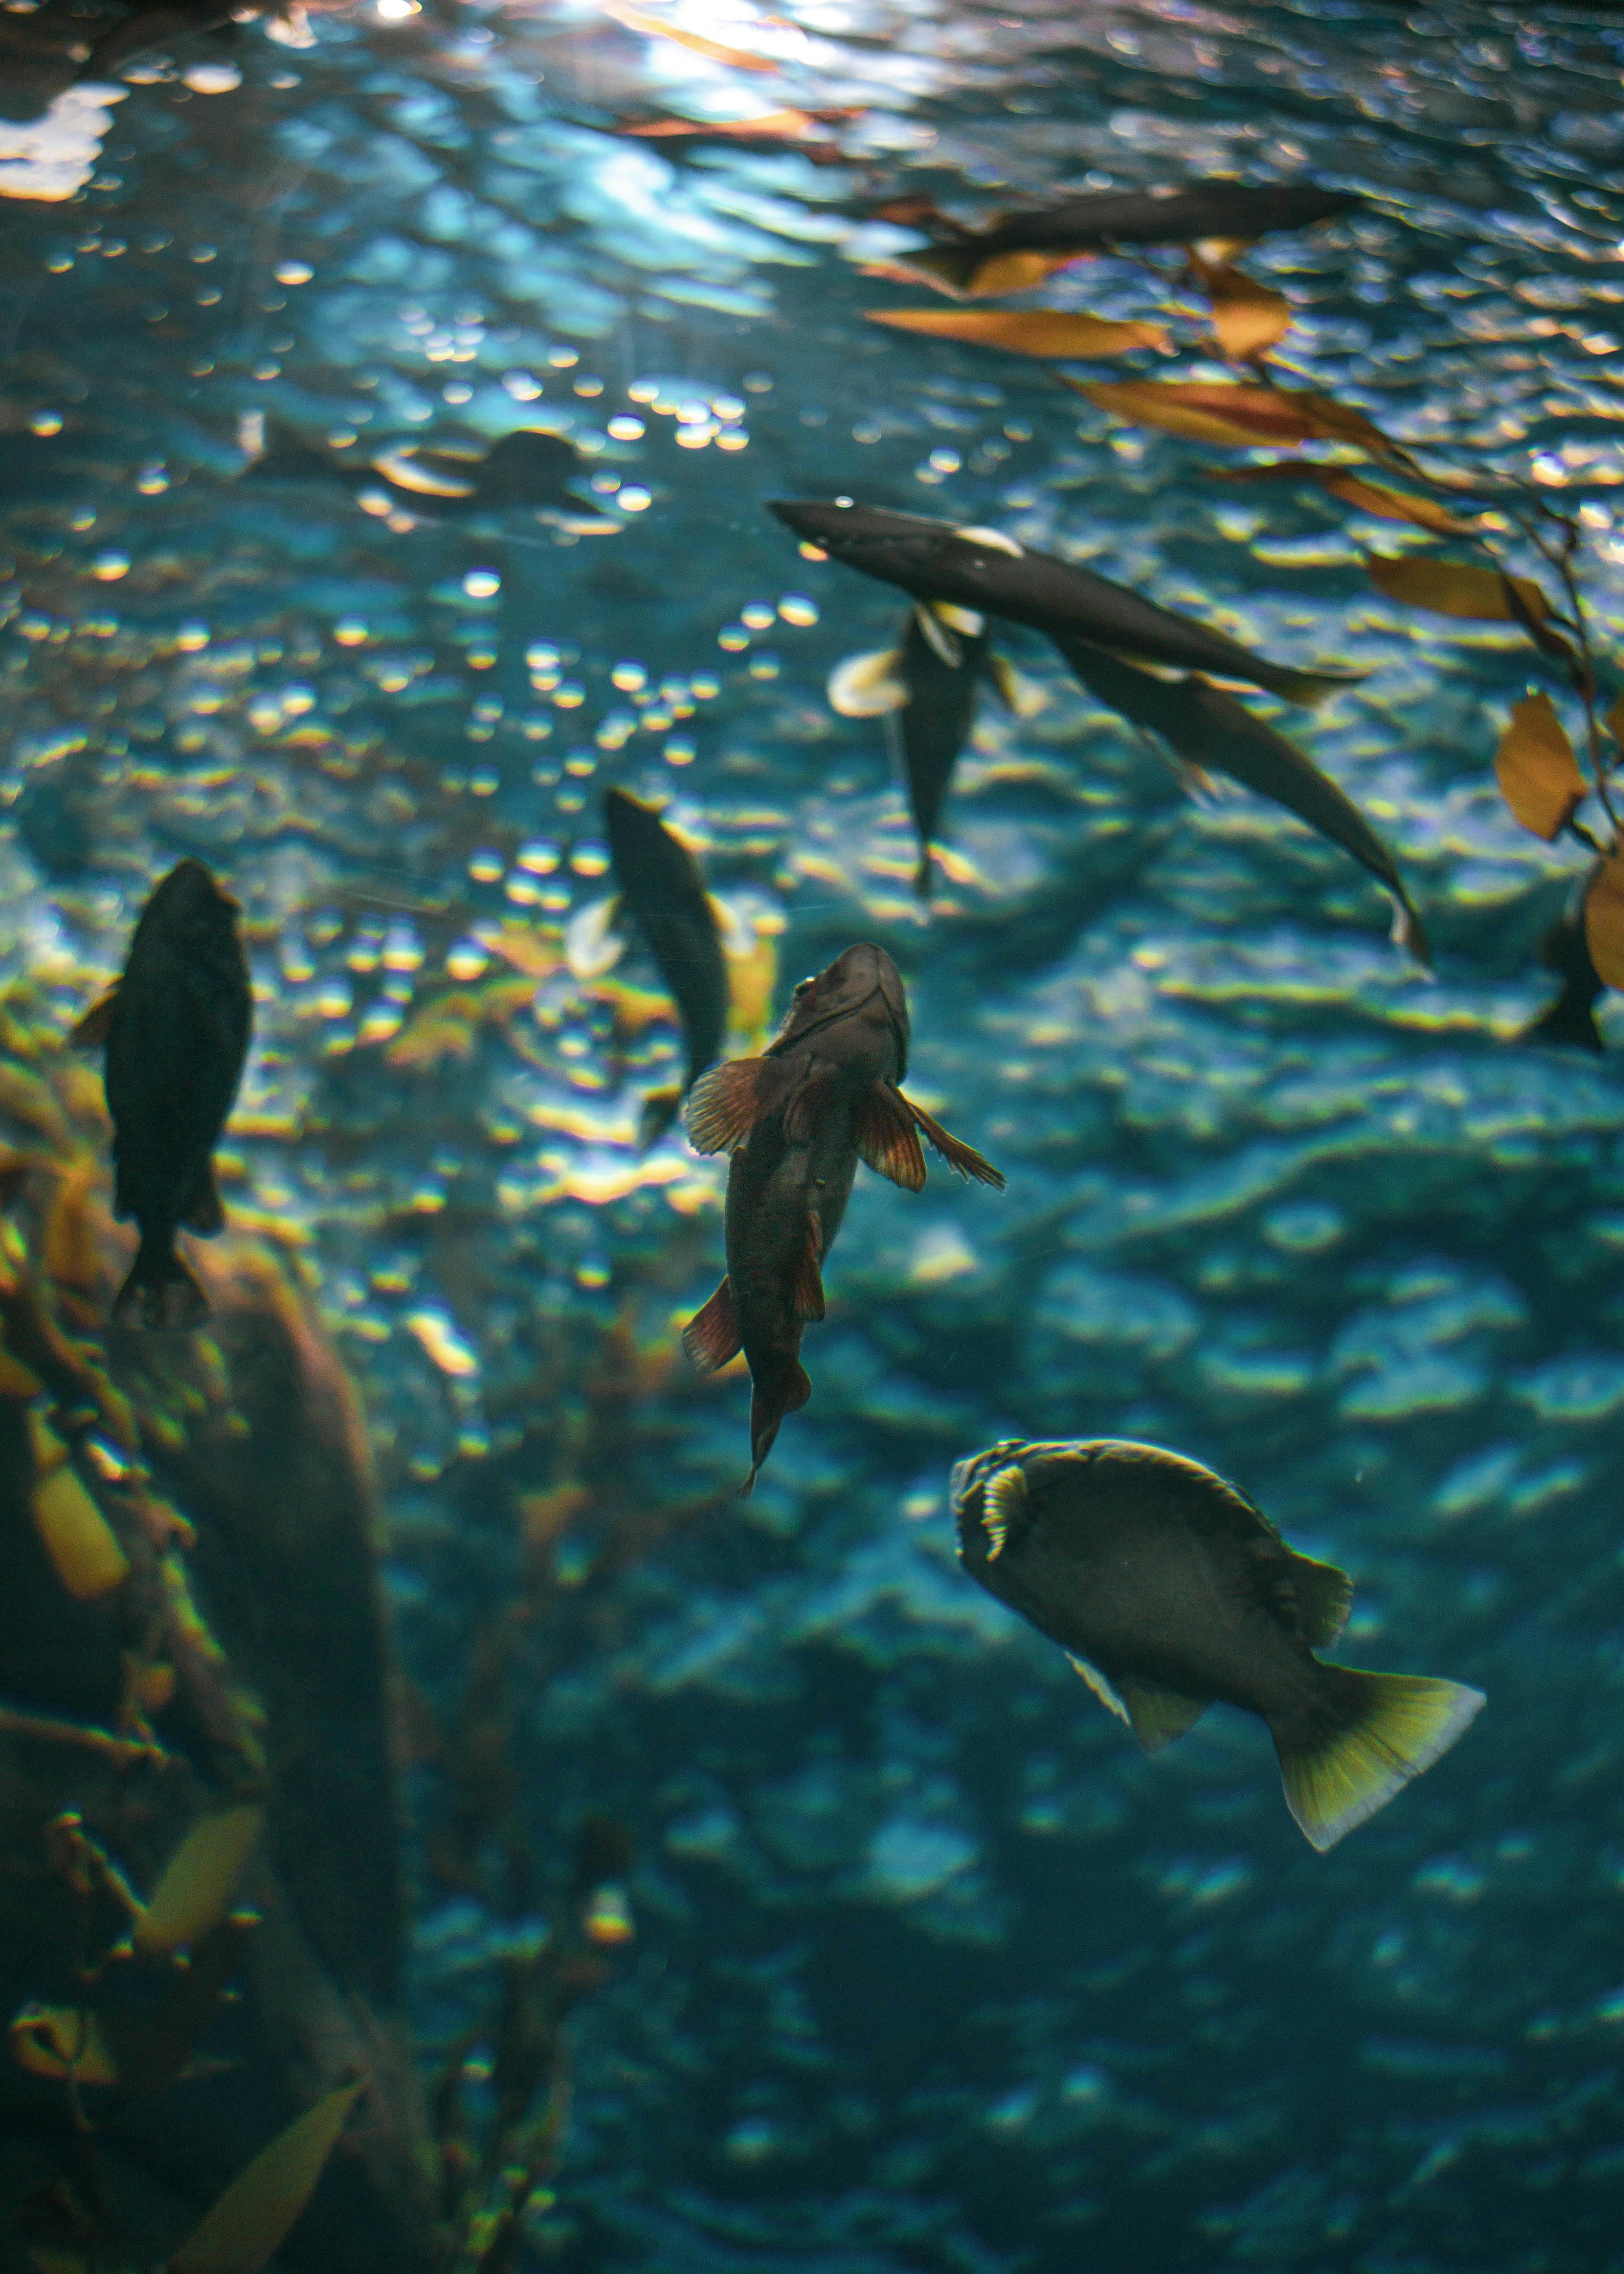fishLarge: (1007, 640, 1438, 995), (761, 496, 1385, 738), (601, 784, 735, 1172)
fishSmall: (949, 1430, 1490, 1861), (678, 935, 1004, 1510), (62, 856, 265, 1346)
